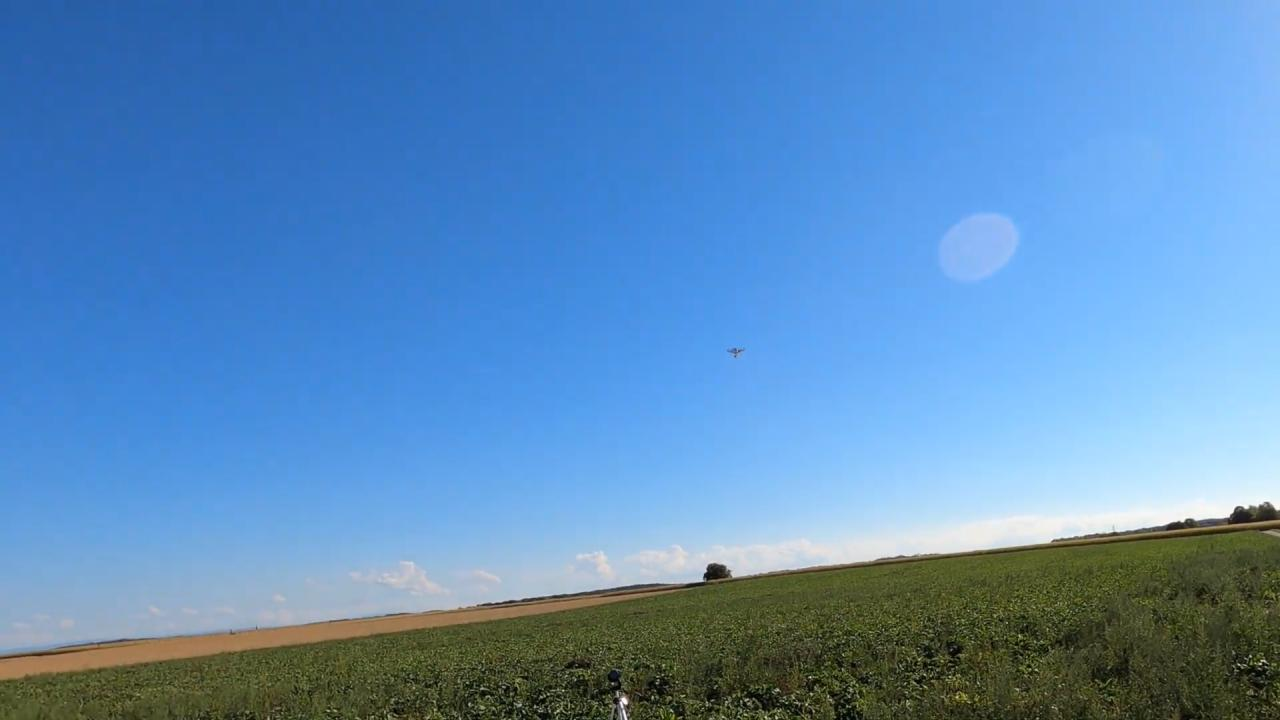Drone: (713, 332, 760, 372)
